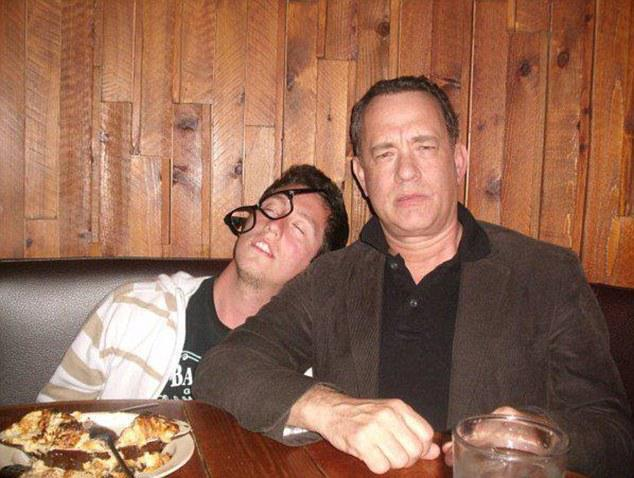Drunk: (362, 95, 452, 226), (245, 179, 325, 280)
